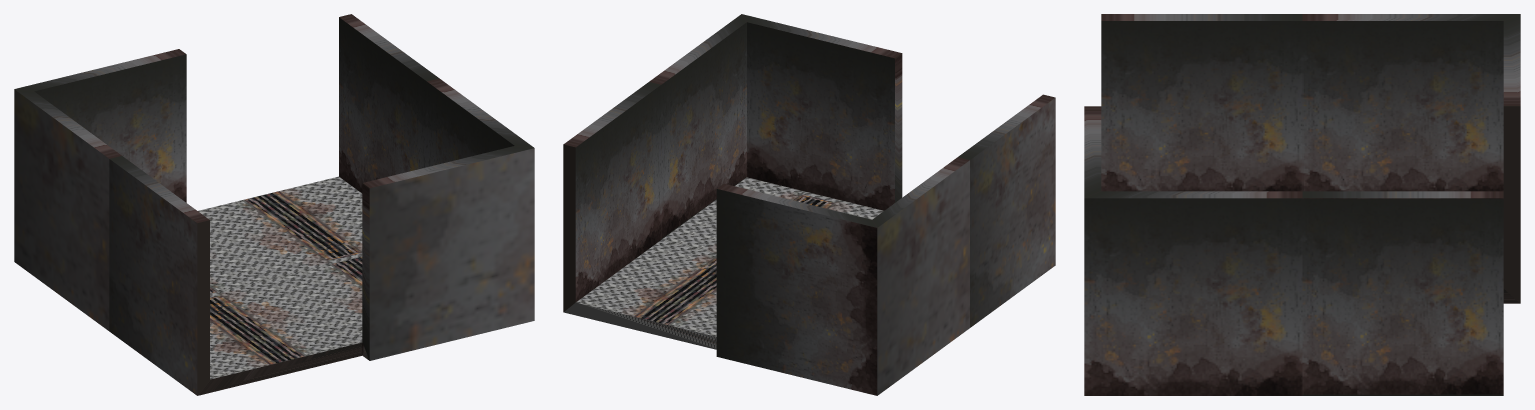
The model's file is Room.001.fbx.
The picture shows the model from 3 angles, left to right: view 1: azimuth 30°, elevation 25°; view 2: azimuth 150°, elevation 25°; view 3: azimuth 270°, elevation 25°; orthographic projection. The views are drawn at different scales.
Visible parts, largest first — view 1: Room.001; view 2: Room.001; view 3: Room.001.
Boxes of the visible parts, box(x1,y1,x2,y2) form: Room.001: box(14, 14, 534, 395); Room.001: box(563, 14, 1055, 395); Room.001: box(1084, 14, 1520, 395).
Size of the model in its own units: 1300 by 650 by 1300.
